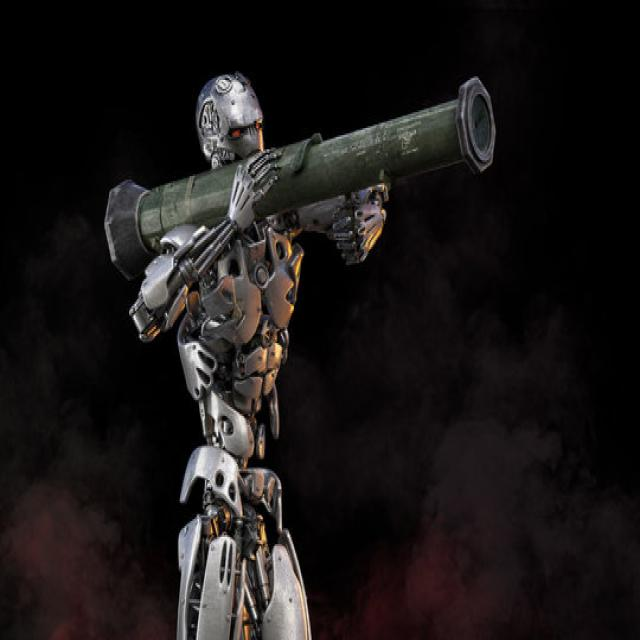Weapon: (102, 74, 505, 323)
